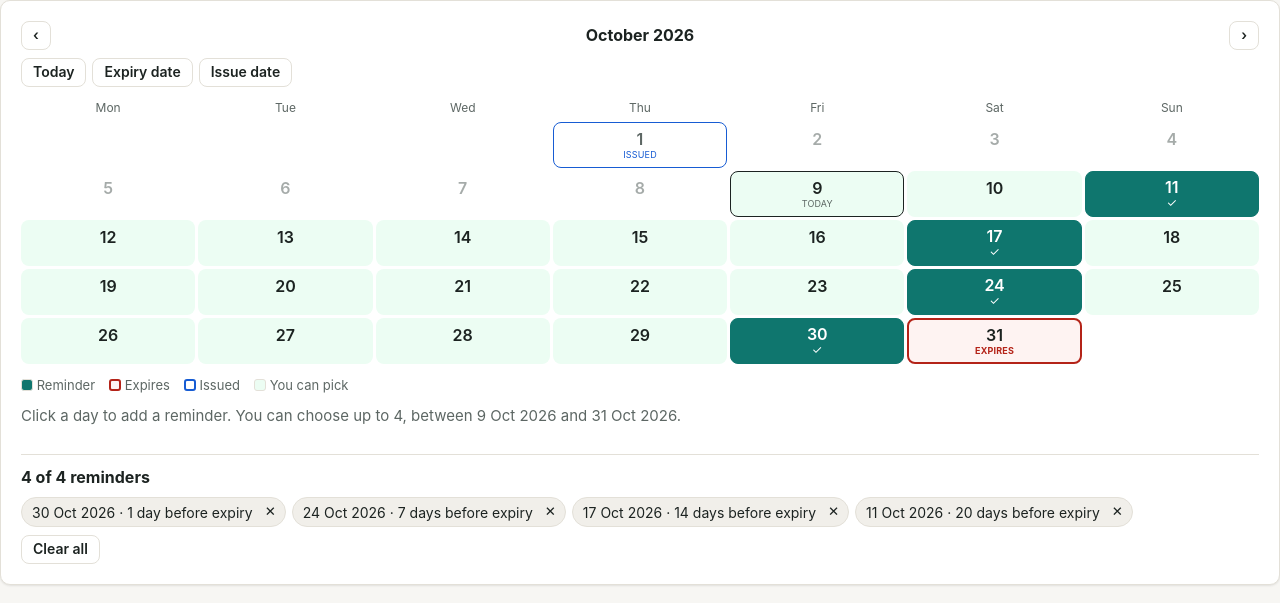
Test: ReminderCalendar: the error messages › refuses a fifth reminder and keeps the four it has
What coordinates should you click on to do the following:
click the button named "Monday, 12 October 2026"
I would click on:
 (108, 243)
Its box is [21, 220, 195, 266].
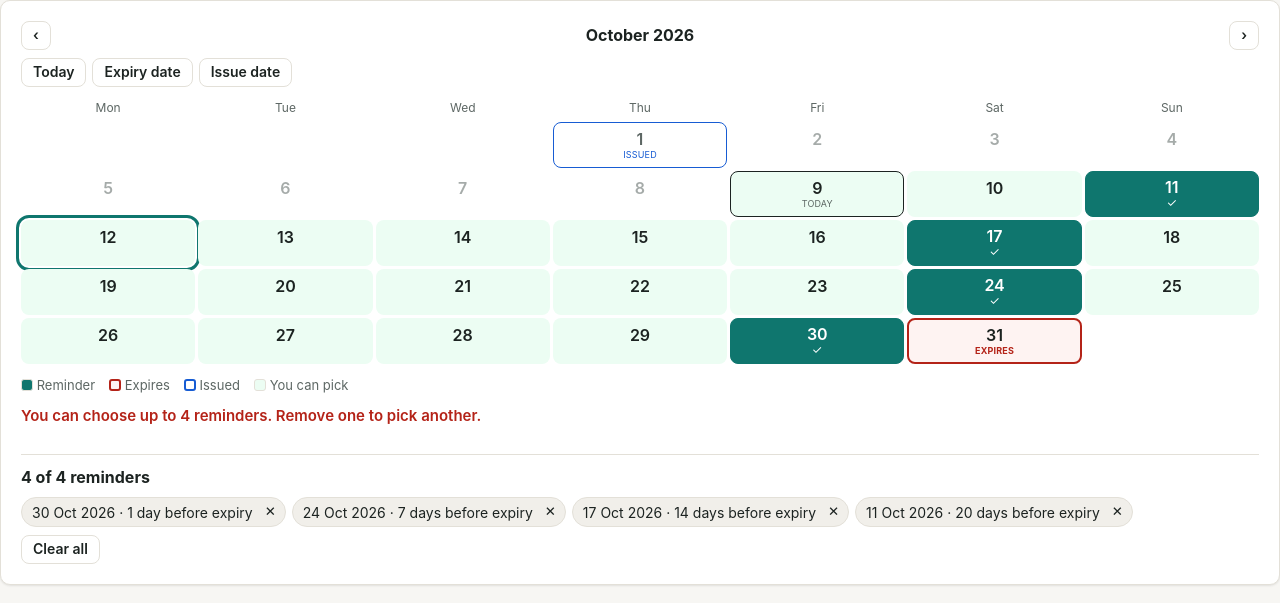
Expected: the text "4 of 4 reminders" is shown, [21, 467, 150, 487]
Now the message reads "You can choose up to 4 reminders. Remove one to pick another.", box [21, 406, 481, 425]
